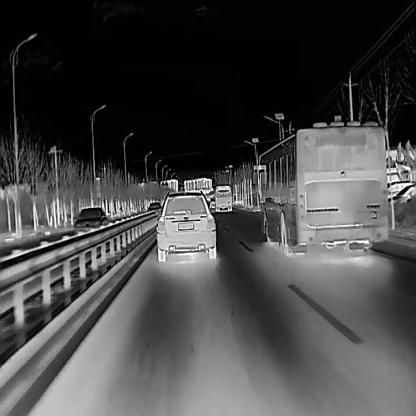bus: (252, 115, 388, 255), (214, 184, 232, 212)
car: (154, 188, 216, 261), (72, 206, 108, 236), (147, 201, 161, 217)
